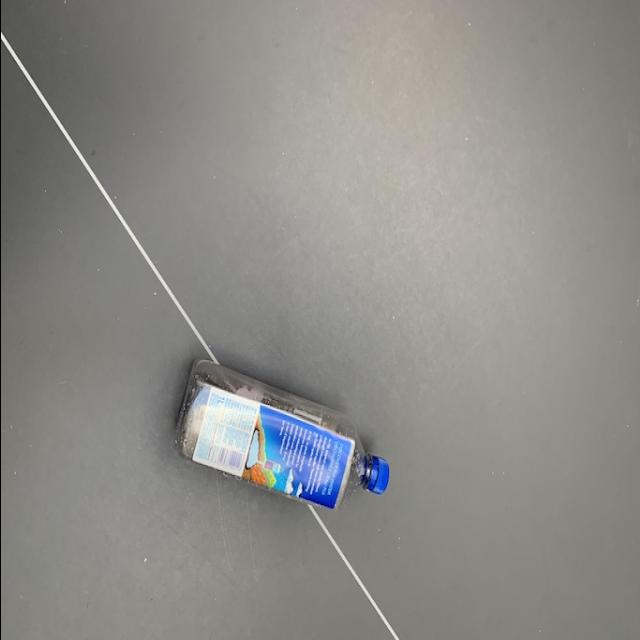PET: (170, 352, 388, 508)
